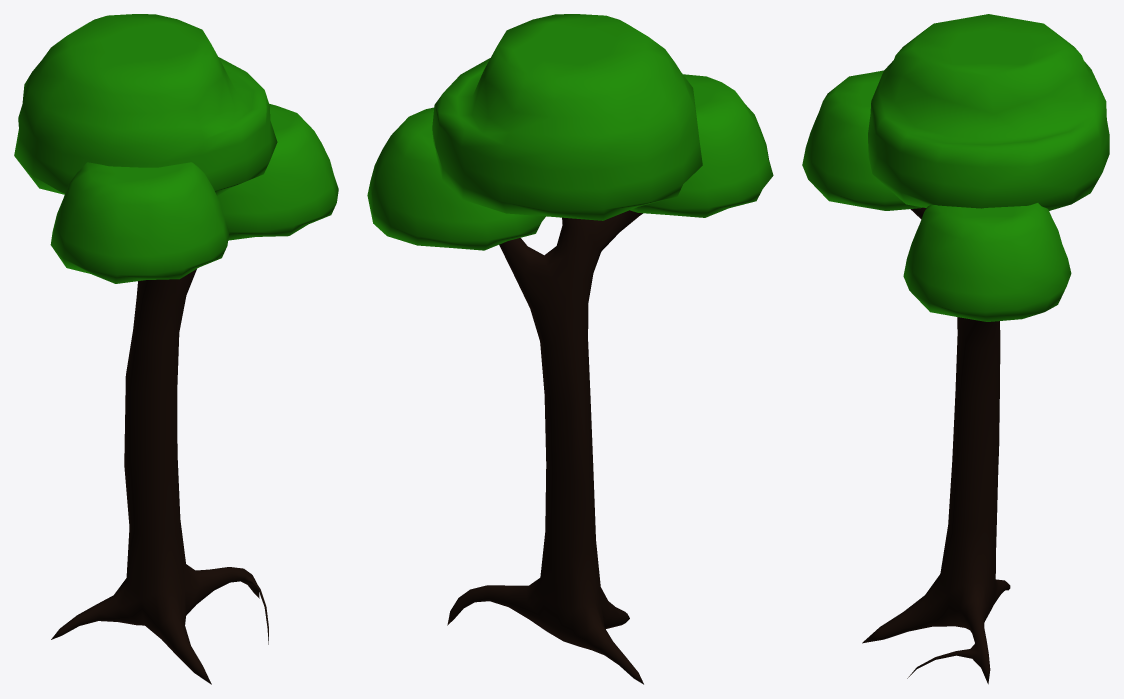
File: SM_Giant_Tree_4.FBX
3 views of the same model, side by side, from view 1: azimuth 30°, elevation 25°; view 2: azimuth 150°, elevation 25°; view 3: azimuth 270°, elevation 25° (orthographic). The views are drawn at different scales.
Parts seen in each view (by area): view 1: SM_Giant_Tree_4; view 2: SM_Giant_Tree_4; view 3: SM_Giant_Tree_4.
Part boxes in pixels (<box>): SM_Giant_Tree_4: <box>14,14,338,684</box>; SM_Giant_Tree_4: <box>367,14,773,684</box>; SM_Giant_Tree_4: <box>802,14,1109,684</box>.
Size of the model in its own units: 33.48 by 60.29 by 28.29.
